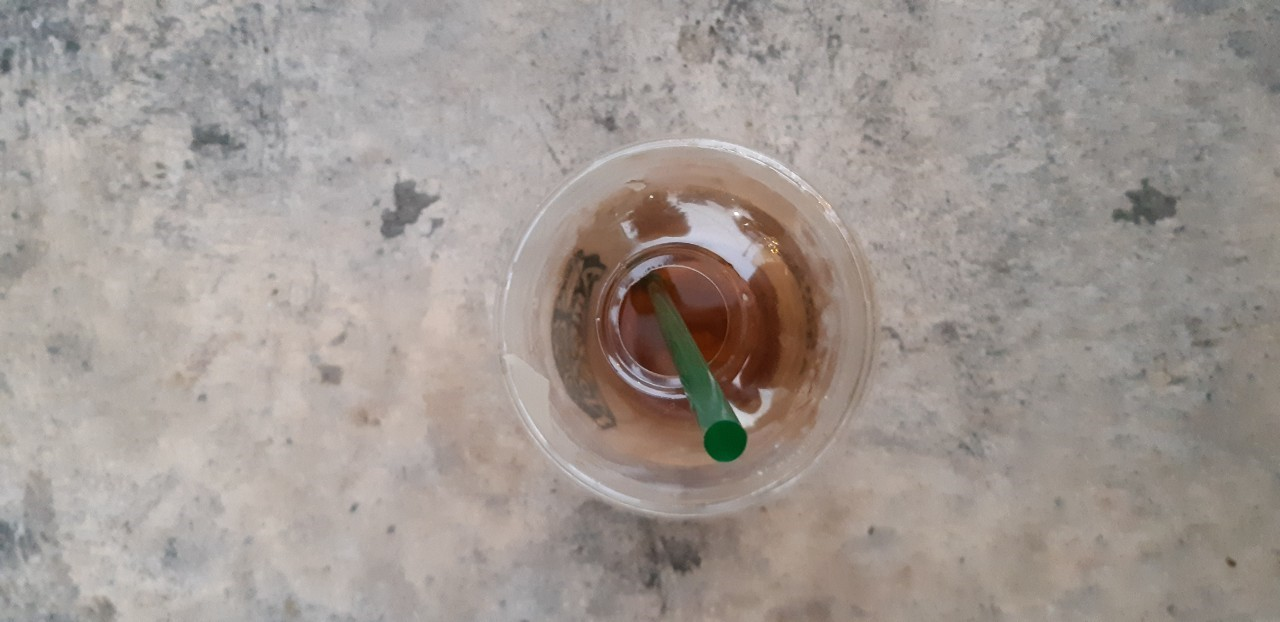PlasticCup: (493, 141, 880, 530)
